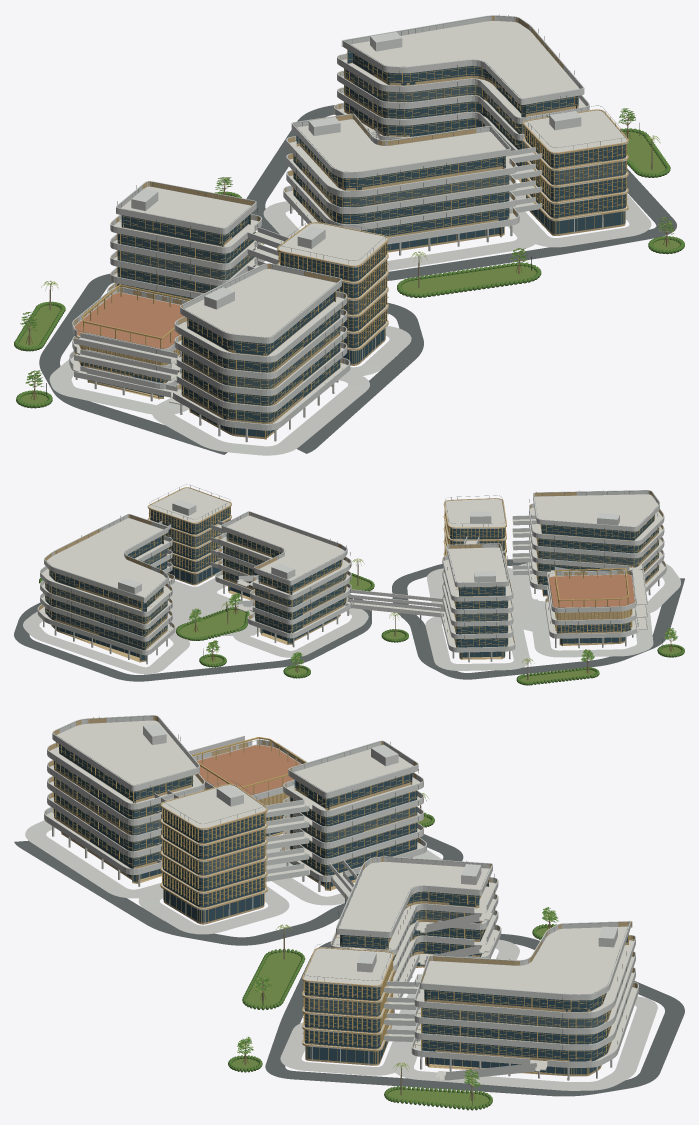
File: uestc-lod1.glb
The picture shows the model from 3 angles, top to bottom: view 1: azimuth 30°, elevation 25°; view 2: azimuth 150°, elevation 25°; view 3: azimuth 270°, elevation 25°; orthographic projection. The views are drawn at different scales.
Parts seen in each view (by area): view 1: rounded white balcony ribbons | ivory metal.001, recessed blue glazing | blue glazing.001, flat roof planes | roof.001, gold spandrels | gold spandrel.001, champagne window grids | champagne fins.001, internal drive and court paving | dark paving.001, site perimeter paving | pale paving.001, recessed blue glazing | glazing light.001, balcony floor decks | roof.001, gold vertical sun fins | champagne fins.001, elevated wing connectors | ivory metal.001, connected planted lawns | lawn.001 (+8 smaller); view 2: rounded white balcony ribbons | ivory metal.001, flat roof planes | roof.001, recessed blue glazing | blue glazing.001, site perimeter paving | pale paving.001, internal drive and court paving | dark paving.001, gold spandrels | gold spandrel.001, champagne window grids | champagne fins.001, balcony floor decks | roof.001, recessed blue glazing | glazing light.001, gold vertical sun fins | champagne fins.001, terracotta roof terrace | terracotta.001, connected planted lawns | lawn.001 (+13 smaller); view 3: recessed blue glazing | blue glazing.001, flat roof planes | roof.001, rounded white balcony ribbons | ivory metal.001, site perimeter paving | pale paving.001, gold spandrels | gold spandrel.001, internal drive and court paving | dark paving.001, champagne window grids | champagne fins.001, balcony floor decks | roof.001, gold vertical sun fins | champagne fins.001, recessed blue glazing | glazing light.001, elevated wing connectors | ivory metal.001, terracotta roof terrace | terracotta.001 (+9 smaller).
Boxes of the visible parts, x1=… form: rounded white balcony ribbons | ivory metal.001: x1=69, y1=15, x2=589, y2=429; recessed blue glazing | blue glazing.001: x1=80, y1=50, x2=625, y2=437; flat roof planes | roof.001: x1=72, y1=21, x2=628, y2=351; gold spandrels | gold spandrel.001: x1=73, y1=16, x2=628, y2=439; champagne window grids | champagne fins.001: x1=81, y1=50, x2=627, y2=437; internal drive and court paving | dark paving.001: x1=39, y1=105, x2=676, y2=454; site perimeter paving | pale paving.001: x1=49, y1=193, x2=651, y2=455; recessed blue glazing | glazing light.001: x1=117, y1=68, x2=625, y2=389; balcony floor decks | roof.001: x1=69, y1=59, x2=627, y2=430; gold vertical sun fins | champagne fins.001: x1=78, y1=65, x2=626, y2=420; elevated wing connectors | ivory metal.001: x1=74, y1=112, x2=562, y2=397; connected planted lawns | lawn.001: x1=19, y1=131, x2=680, y2=404; rounded white balcony ribbons | ivory metal.001: x1=37, y1=490, x2=666, y2=655; flat roof planes | roof.001: x1=46, y1=488, x2=658, y2=612; recessed blue glazing | blue glazing.001: x1=45, y1=507, x2=658, y2=660; site perimeter paving | pale paving.001: x1=23, y1=563, x2=680, y2=674; internal drive and court paving | dark paving.001: x1=14, y1=559, x2=684, y2=681; gold spandrels | gold spandrel.001: x1=39, y1=487, x2=665, y2=662; champagne window grids | champagne fins.001: x1=45, y1=509, x2=659, y2=660; balcony floor decks | roof.001: x1=39, y1=507, x2=665, y2=655; recessed blue glazing | glazing light.001: x1=45, y1=519, x2=658, y2=624; gold vertical sun fins | champagne fins.001: x1=51, y1=506, x2=651, y2=648; terracotta roof terrace | terracotta.001: x1=548, y1=574, x2=634, y2=607; connected planted lawns | lawn.001: x1=179, y1=575, x2=681, y2=682; recessed blue glazing | blue glazing.001: x1=54, y1=744, x2=627, y2=1074; flat roof planes | roof.001: x1=52, y1=720, x2=630, y2=1000; rounded white balcony ribbons | ivory metal.001: x1=44, y1=715, x2=638, y2=1067; site perimeter paving | pale paving.001: x1=25, y1=820, x2=657, y2=1090; gold spandrels | gold spandrel.001: x1=45, y1=715, x2=637, y2=1076; internal drive and court paving | dark paving.001: x1=14, y1=834, x2=684, y2=1096; champagne window grids | champagne fins.001: x1=52, y1=745, x2=634, y2=1074; balcony floor decks | roof.001: x1=44, y1=747, x2=636, y2=1067; gold vertical sun fins | champagne fins.001: x1=55, y1=754, x2=628, y2=1060; recessed blue glazing | glazing light.001: x1=54, y1=777, x2=610, y2=1028; elevated wing connectors | ivory metal.001: x1=154, y1=735, x2=420, y2=1041; terracotta roof terrace | terracotta.001: x1=197, y1=745, x2=300, y2=795.
Bounding box in the file's own units: 182 × 26.5 × 148.
